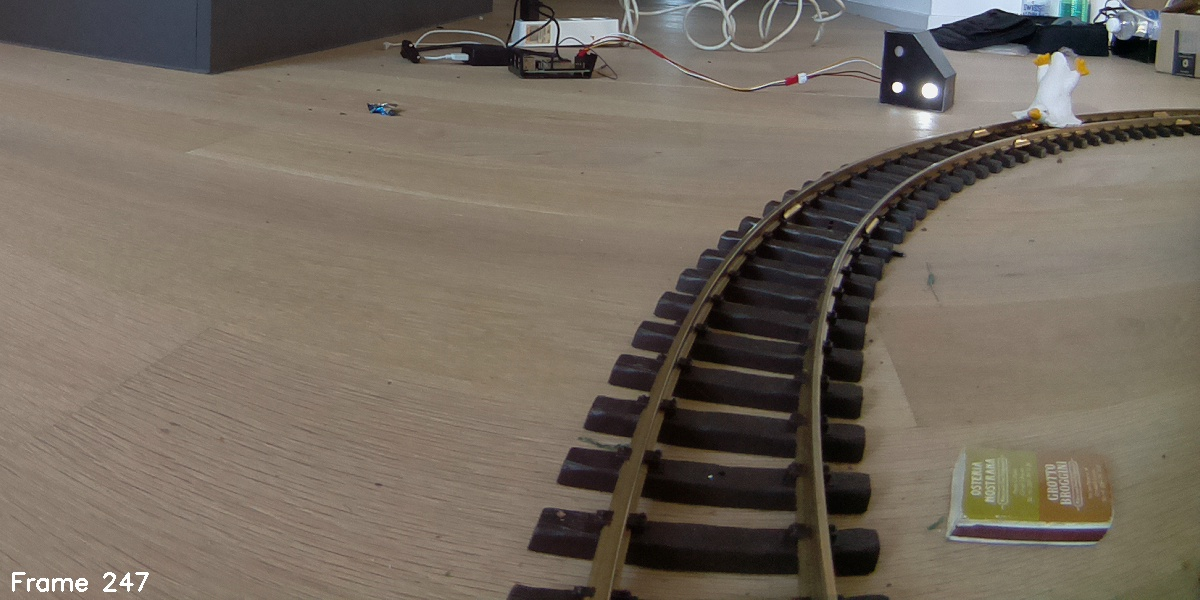Ente: (1009, 52, 1096, 139)
Halt: (876, 30, 958, 112)
